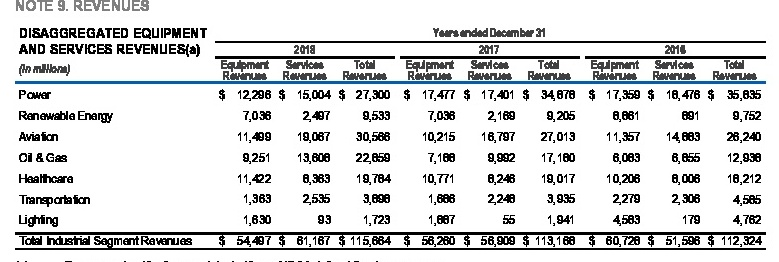table: (0, 0, 779, 262)
